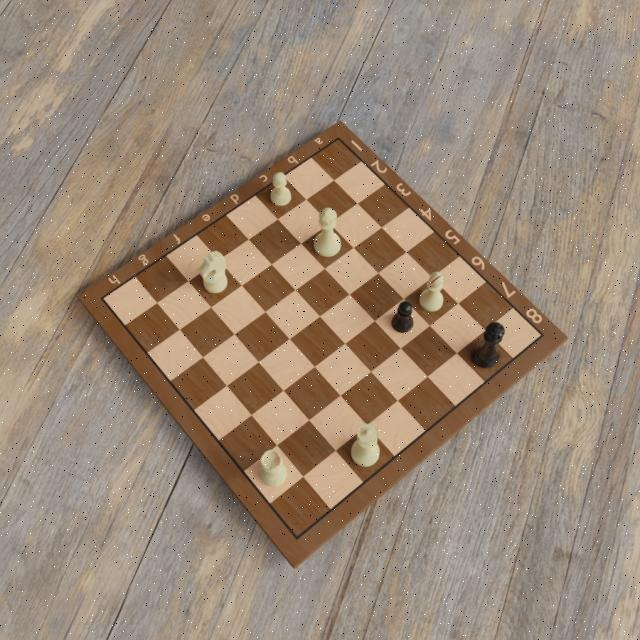black-king: (468, 322, 506, 370)
black-pawn: (389, 299, 414, 332)
white-bishop: (418, 269, 445, 315)
white-king: (312, 205, 344, 258)
white-knight: (196, 249, 229, 295)
white-pawn: (267, 170, 293, 209)
white-queen: (350, 422, 383, 470)
white-rook: (258, 449, 289, 489)
